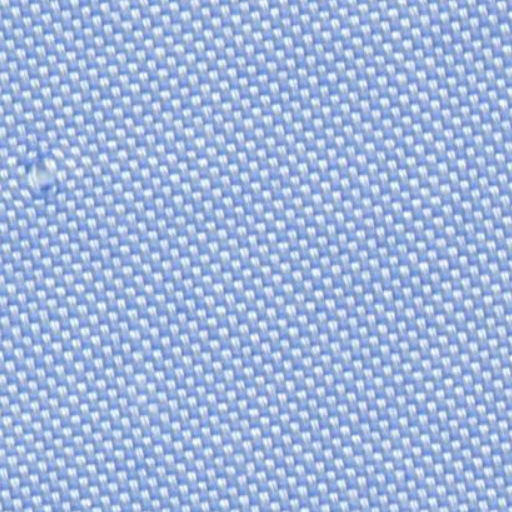PoDong: (8, 130, 84, 212)
